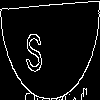S: (25, 25, 43, 72)
